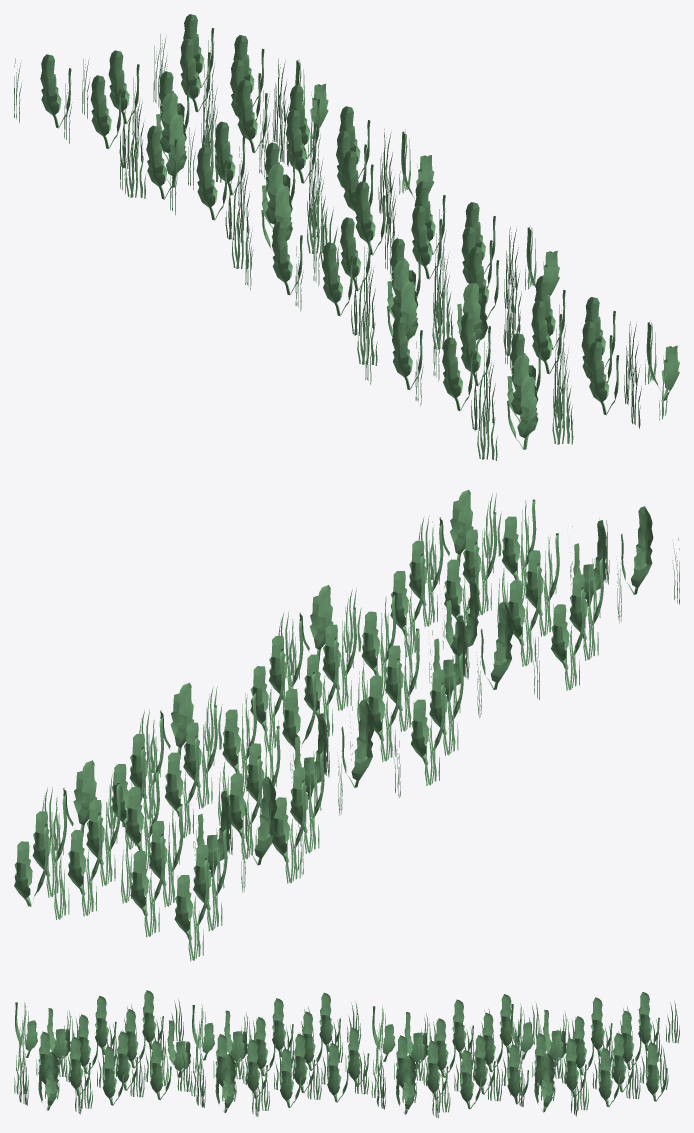
The model's file is Underwatergrasses.fbx.
3 views of the same model, one above another, from view 1: azimuth 30°, elevation 25°; view 2: azimuth 150°, elevation 25°; view 3: azimuth 270°, elevation 25° (orthographic). The views are drawn at different scales.
Visible parts, largest first — view 1: Underwater Grass; view 2: Underwater Grass; view 3: Underwater Grass.
Boxes of the visible parts, left/top/right/bottom form: Underwater Grass: left=14, top=14, right=679, bottom=460; Underwater Grass: left=14, top=489, right=679, bottom=961; Underwater Grass: left=14, top=990, right=679, bottom=1118.
Size of the model in its own units: 171 by 55.31 by 609.
